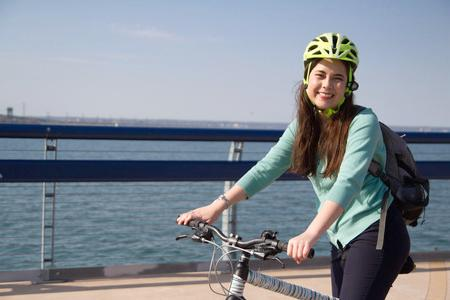With Helmet: (299, 32, 364, 111)
